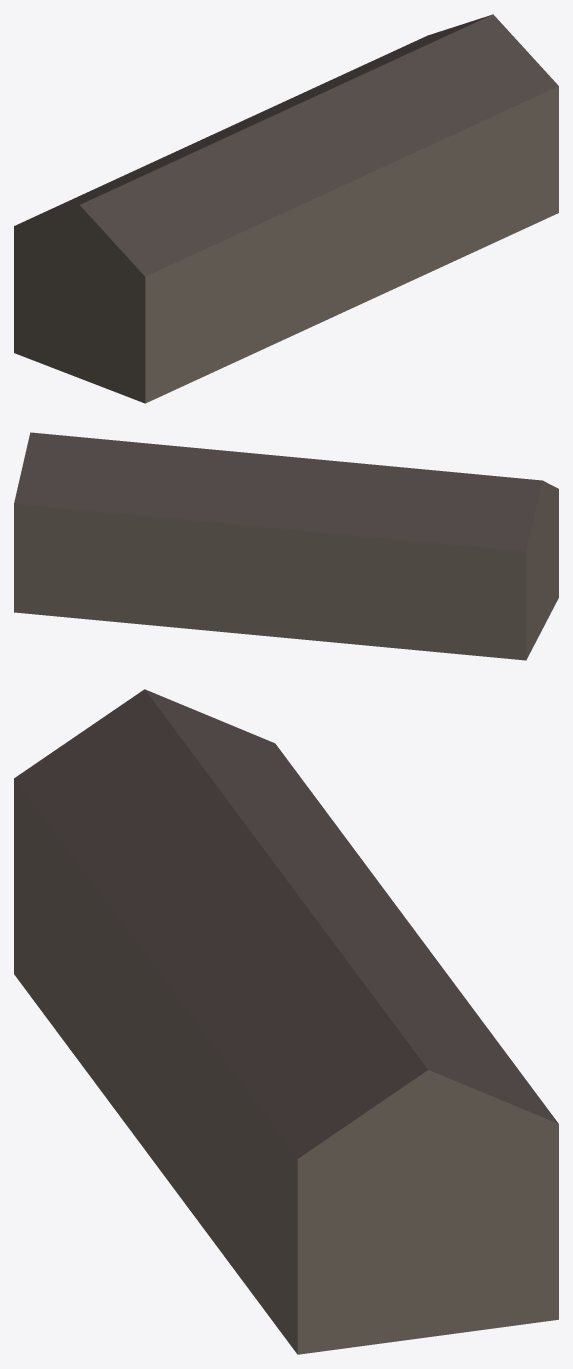
3 renders of one model, top to bottom at view 1: azimuth 30°, elevation 25°; view 2: azimuth 150°, elevation 25°; view 3: azimuth 270°, elevation 25°, orthographic. The views are drawn at different scales.
Parts seen in each view (by area): view 1: HP-w1376988717; view 2: HP-w1376988717; view 3: HP-w1376988717.
Part boxes in pixels (left/top/right/bottom): HP-w1376988717: left=14, top=14, right=558, bottom=403; HP-w1376988717: left=14, top=432, right=558, bottom=660; HP-w1376988717: left=14, top=689, right=558, bottom=1354.
Bounding box in the file's own units: 27.34 × 8.2 × 15.15.
